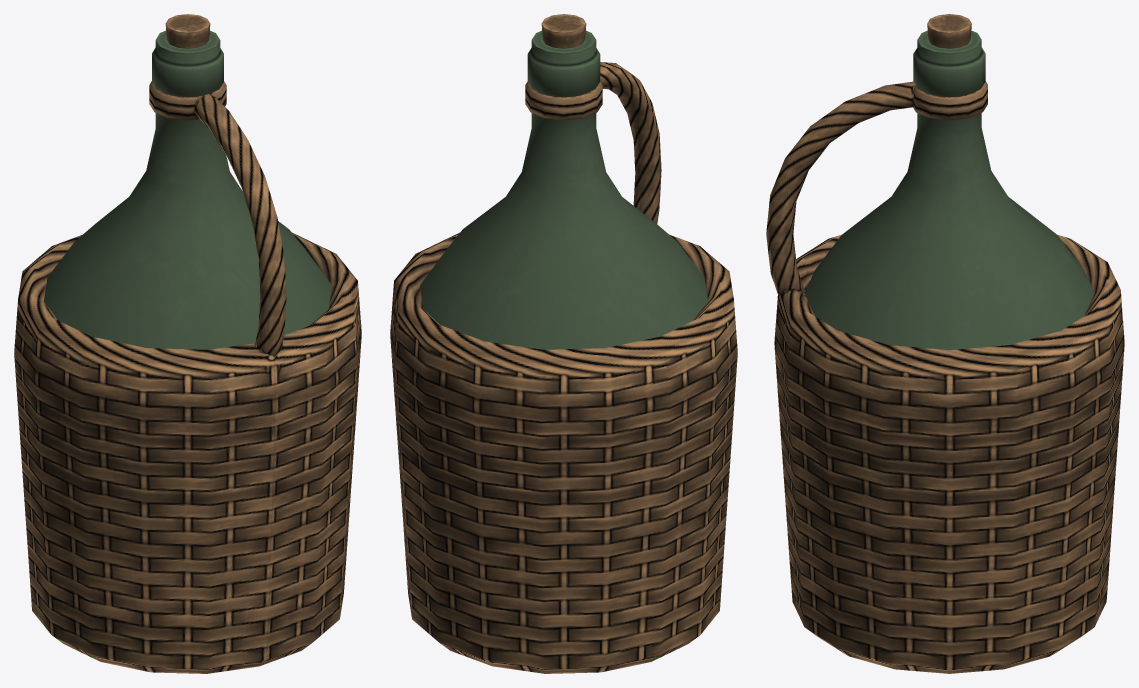
File: LOD0_wickerBigBottle_closed.fbx
The picture shows the model from 3 angles, left to right: view 1: azimuth 30°, elevation 25°; view 2: azimuth 150°, elevation 25°; view 3: azimuth 270°, elevation 25°; orthographic projection.
Parts seen in each view (by area): view 1: LOD0_wickerBigBottle_closed; view 2: LOD0_wickerBigBottle_closed; view 3: LOD0_wickerBigBottle_closed.
Boxes of the visible parts, bbox=[...] form: LOD0_wickerBigBottle_closed: bbox=[14, 14, 361, 673]; LOD0_wickerBigBottle_closed: bbox=[390, 14, 737, 673]; LOD0_wickerBigBottle_closed: bbox=[766, 14, 1124, 673].
Size of the model in its own units: 0.2261 by 0.42 by 0.2313.
